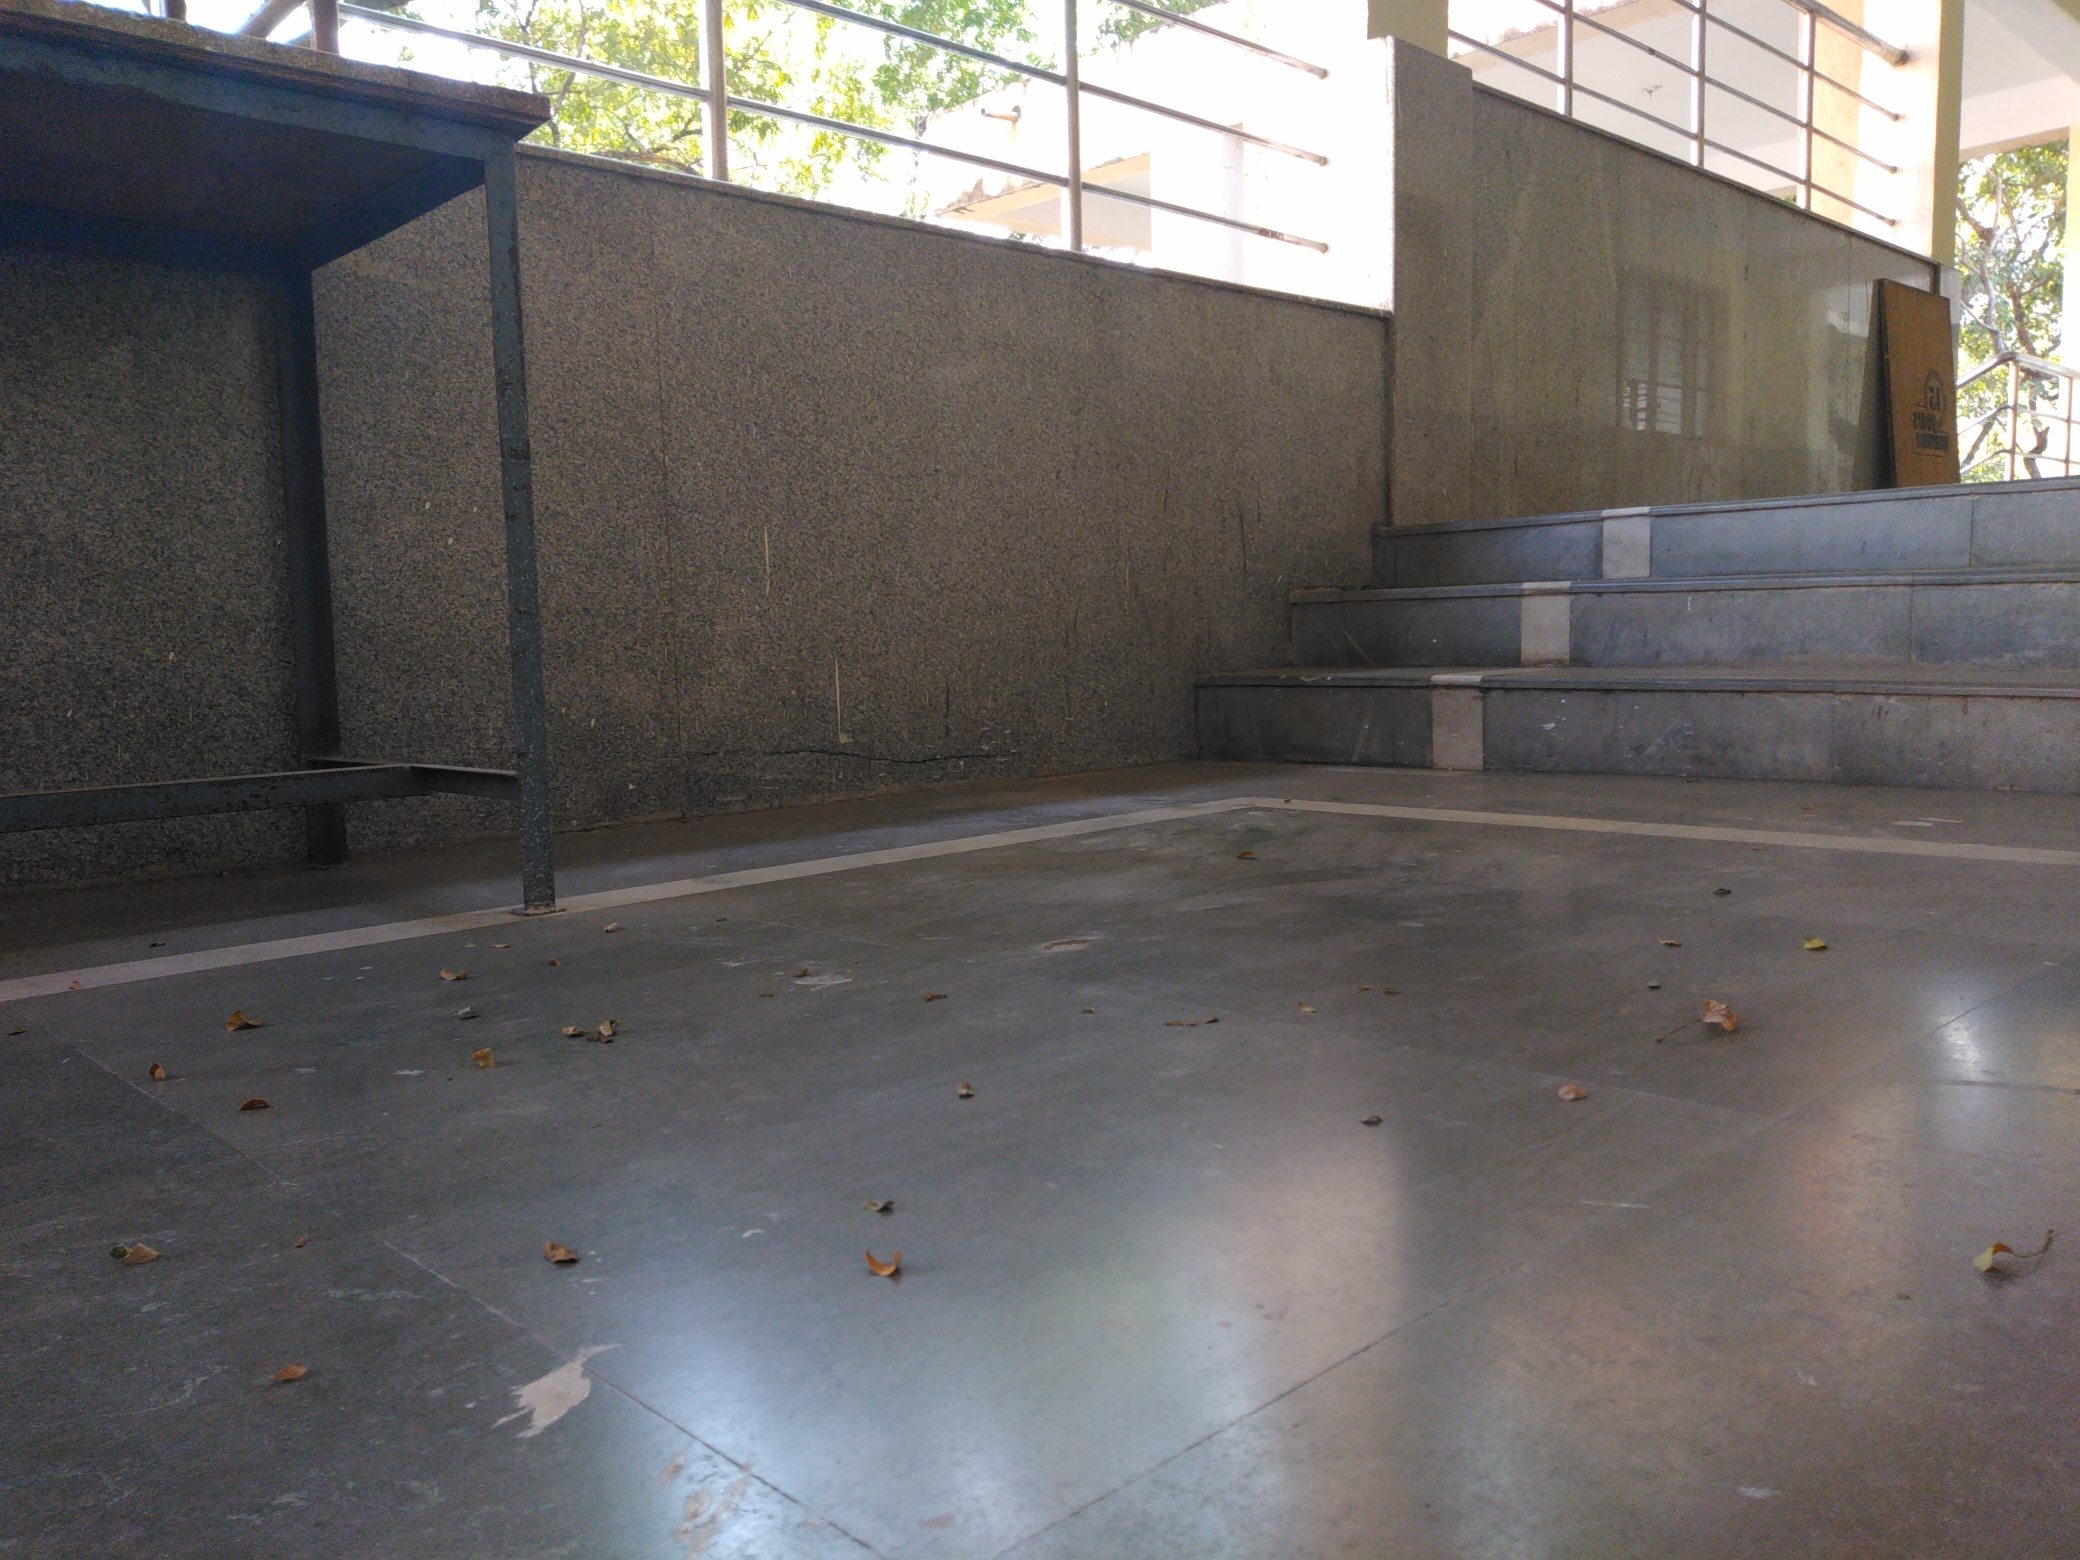stairs_up: (1227, 436, 2060, 783)
